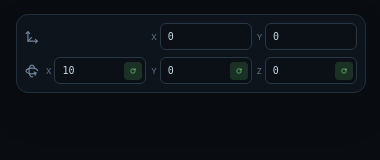
Scenario: transform controls › renders a clockwise rotate overlay per rotation axis, hidden while that input is focused
The width and height of the screenshot is (380, 160).
Expected: the number of buttons named "Rotate X clockwise 45 degrees" is 3, [124,62,142,80]; [230,62,248,80]; [335,62,353,80]
Focus the number field named "Rotation X" at (100, 70), box [54,57,146,84]
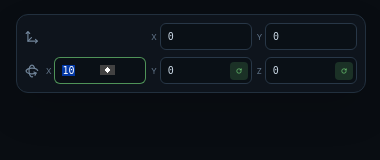
Expected: the number of buttons named "Rotate Y clockwise 45 degrees" is 2, [230,62,248,80]; [335,62,353,80]
Leave the number field named "Rotation X", box [54,57,146,84]
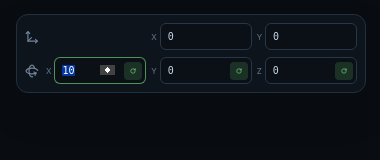
Result: the button named "Rotate X clockwise 45 degrees" is shown at [124,62,142,80]
